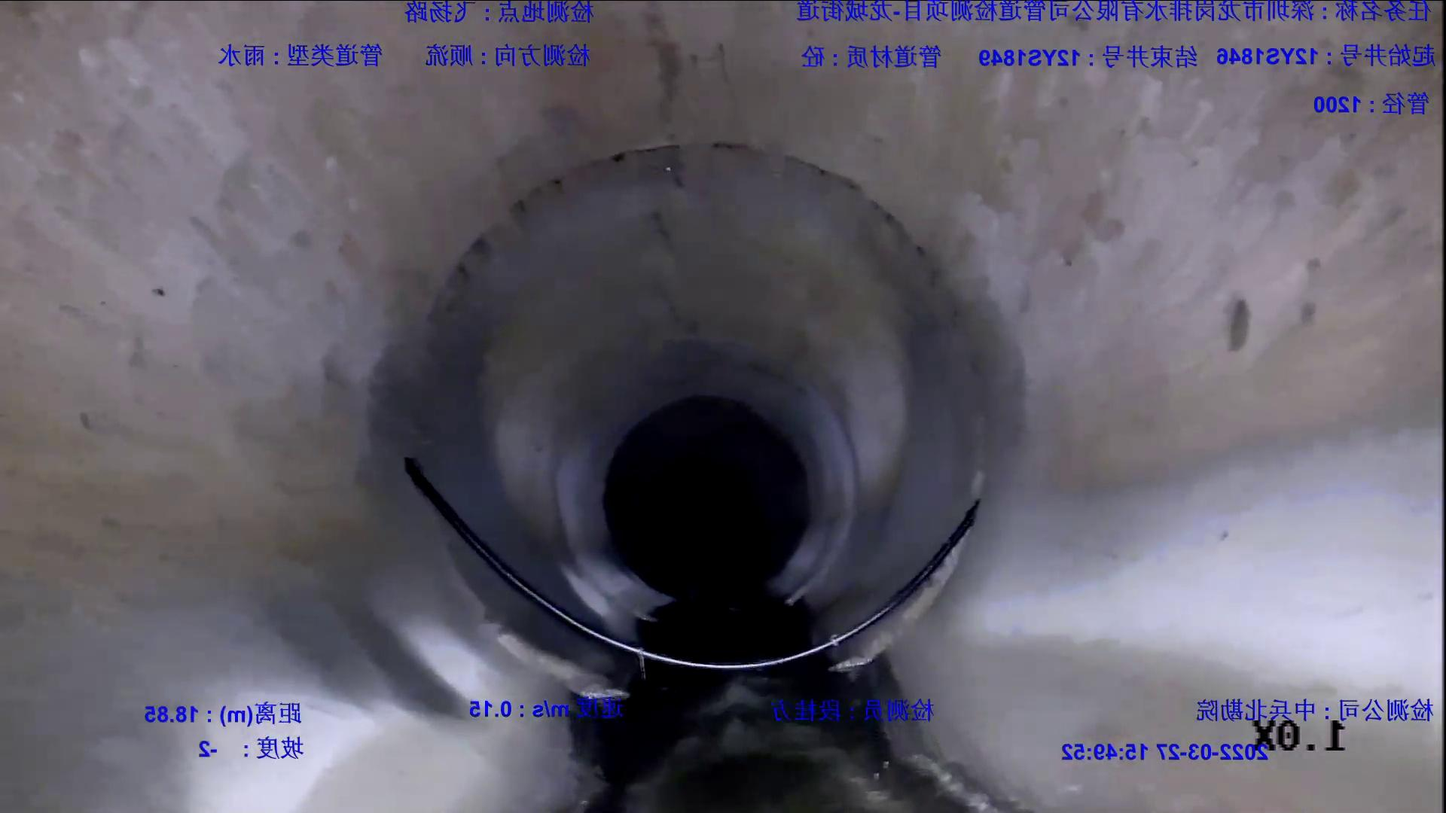YWCR: (405, 458, 981, 672)
